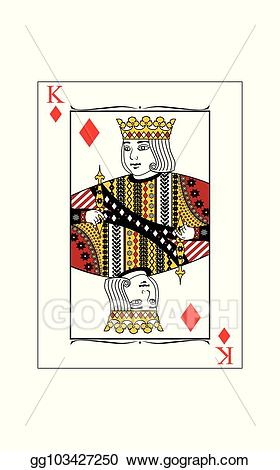king of diamonds: (36, 77, 243, 366)
